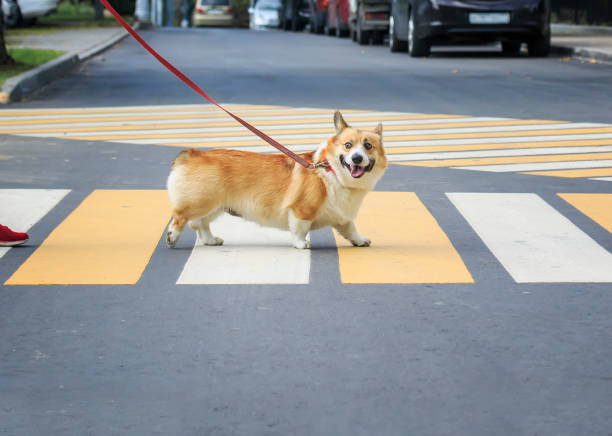kopek: (144, 104, 418, 274)
